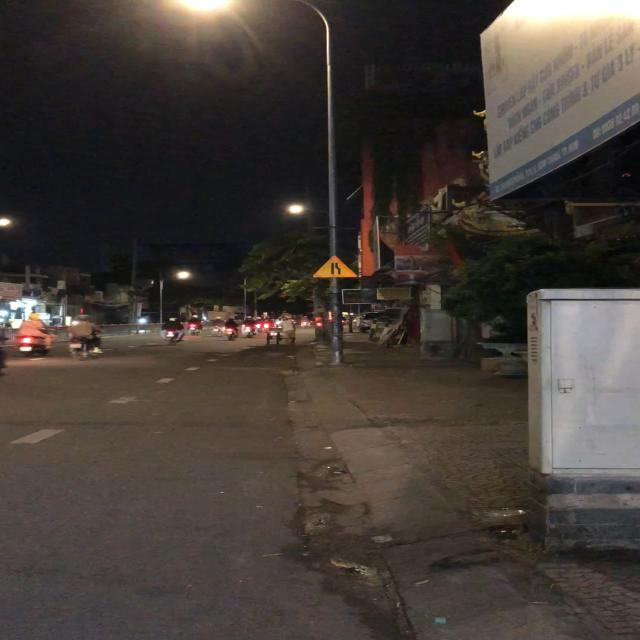Bien bao duong bi thu hep: (310, 252, 362, 280)
